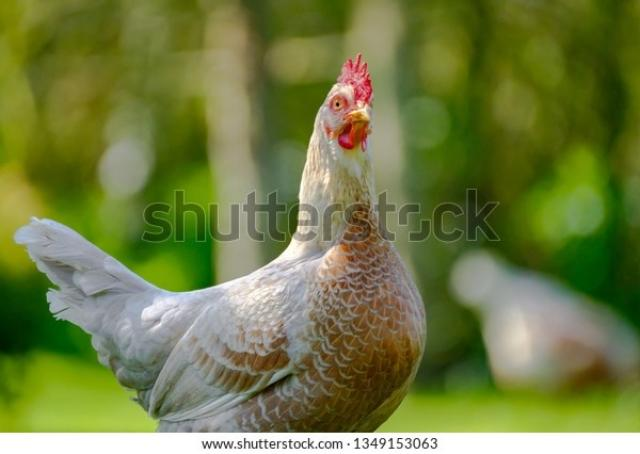Chicken: (15, 54, 425, 434)
